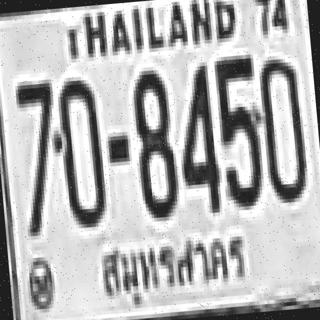N00: (54, 76, 105, 226), (255, 54, 306, 200)
N04: (172, 62, 219, 211)
N05: (212, 52, 264, 206)
N07: (12, 78, 62, 231), (12, 78, 58, 187)
N08: (129, 67, 178, 217)
P58: (92, 226, 257, 309)
